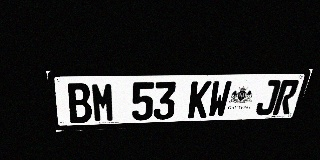3: (153, 82, 176, 120)
5: (132, 82, 154, 121)
B: (65, 83, 93, 123)
J: (254, 80, 282, 116)
K: (187, 81, 212, 118)
M: (90, 82, 115, 122)
R: (272, 80, 300, 115)
W: (207, 81, 232, 118)
